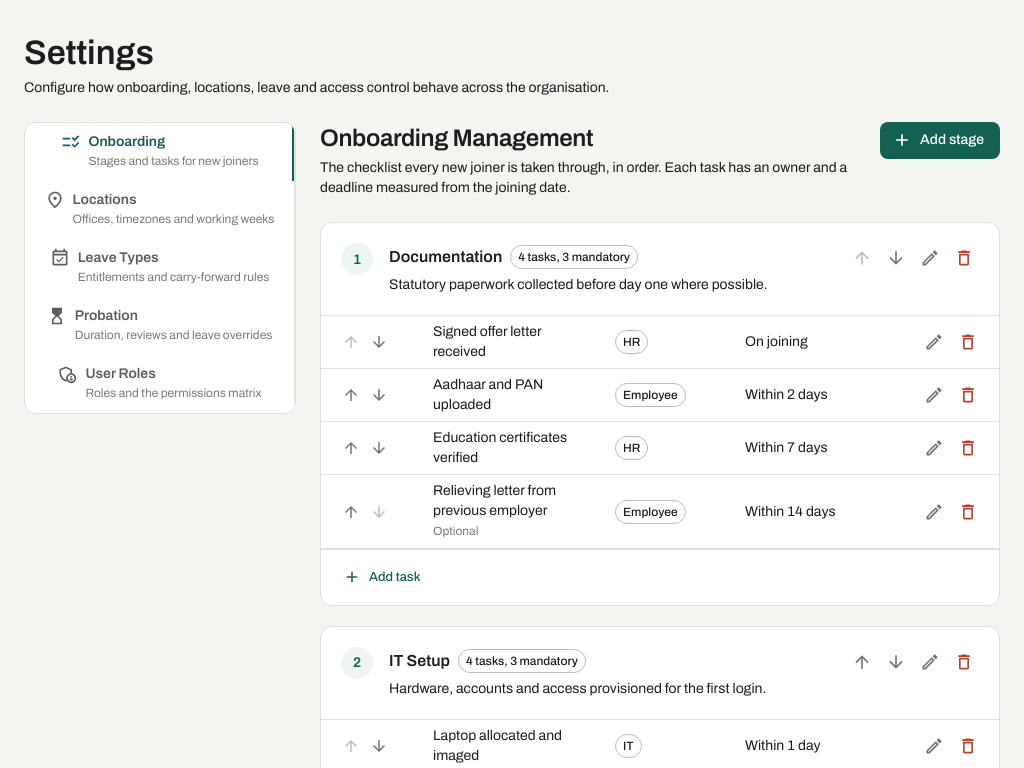
it: SettingsPage › locks the administrator matrix so nobody can be shut out
The width and height of the screenshot is (1024, 768).
expect the heading "Onboarding Management" is shown: met, box [320,125,593,151]
Click the tab "User Roles Roles and the permissions matrix" at (160, 384), box [25,355,294,413]
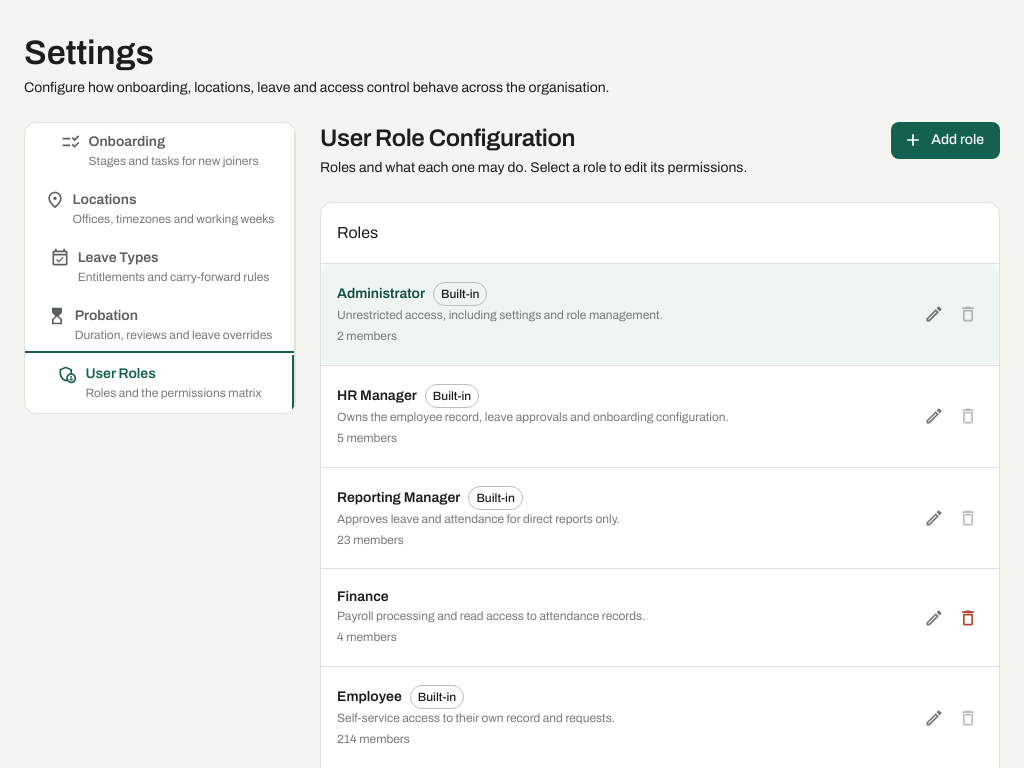
expect the button named "Delete Administrator" is disabled: met, box [953,299,983,329]
expect the heading "User Role Configuration" is shown: met, box [320,125,575,151]
